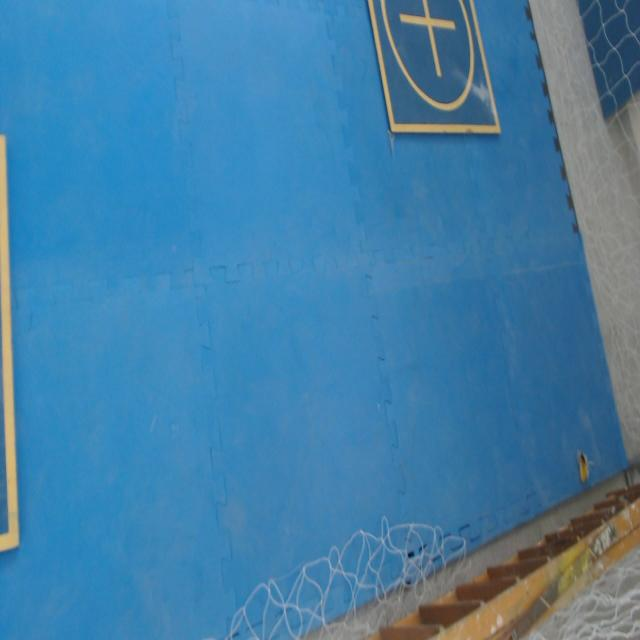base_pouso: (366, 0, 504, 137), (0, 135, 25, 553)
